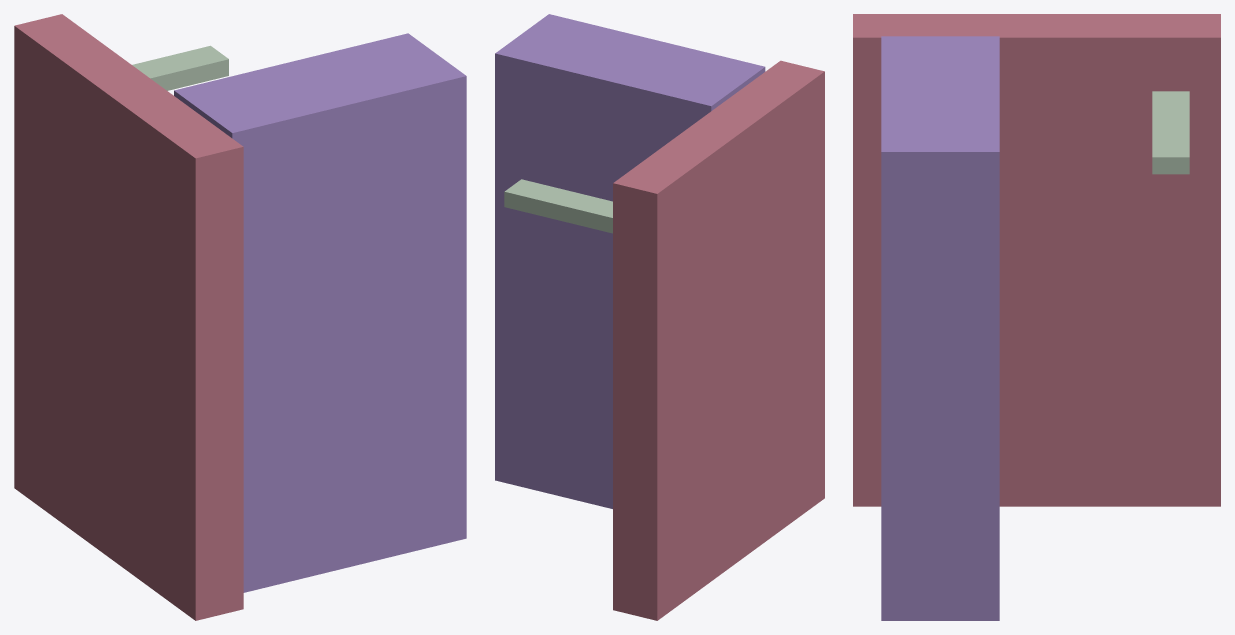
The picture shows the model from 3 angles, left to right: view 1: azimuth 30°, elevation 25°; view 2: azimuth 150°, elevation 25°; view 3: azimuth 270°, elevation 25°; orthographic projection. The views are drawn at different scales.
Parts seen in each view (by area): view 1: world; view 2: world; view 3: world.
Part boxes in pixels (bbox=[...]): world: bbox=[14, 14, 466, 620]; world: bbox=[495, 14, 824, 620]; world: bbox=[853, 14, 1220, 620].
Bounding box in the file's own units: 5.35 × 8.35 × 5.9.
